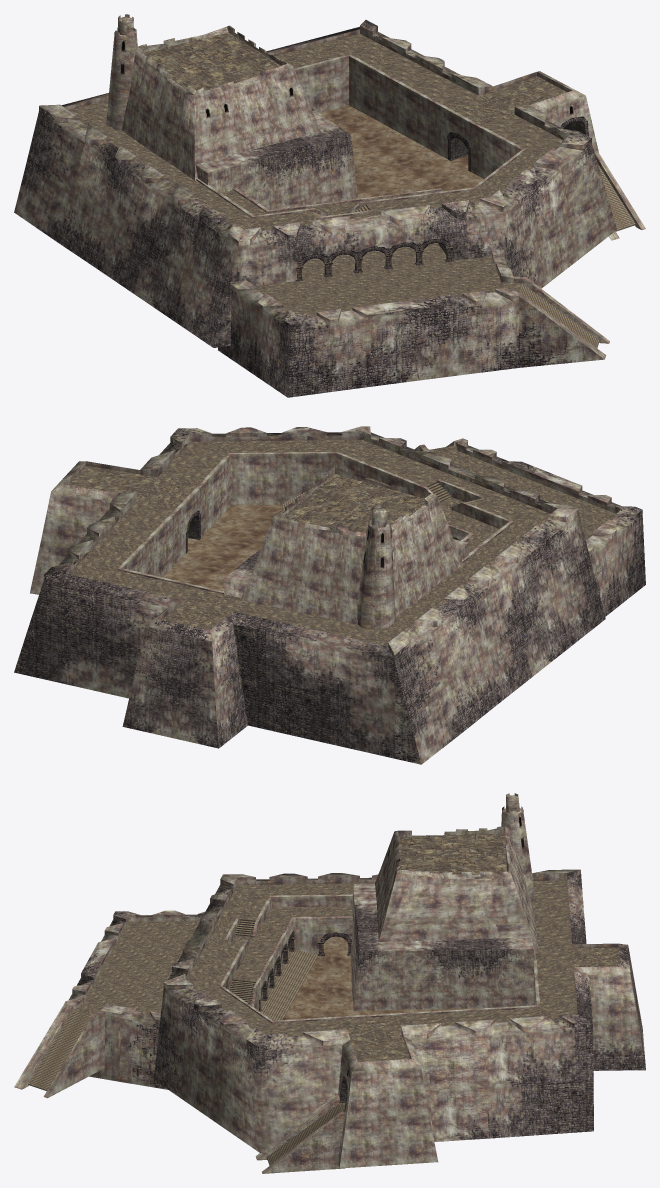
The model's file is pir_m_bld_frt_kingsheadTop_interior.fbx.
The picture shows the model from 3 angles, top to bottom: view 1: azimuth 30°, elevation 25°; view 2: azimuth 150°, elevation 25°; view 3: azimuth 270°, elevation 25°; orthographic projection. The views are drawn at different scales.
Parts seen in each view (by area): view 1: polySurface324, polySurface28.001, polySurface324.001, exterior_walls4, polySurface70.001, polySurface73, exterior_walls1.001, polySurface263.001, polySurface73.001, ground.001, polySurface323, polySurface323.001 (+12 smaller); view 2: polySurface324, polySurface324.001, polySurface73.001, polySurface70.001, polySurface73, exterior_walls4.001, exterior_walls4, polySurface28.001, polySurface378.001, ground.001, polySurface323, large_tower7.001 (+8 smaller); view 3: polySurface324, polySurface324.001, exterior_walls1.001, polySurface378.001, polySurface73.001, exterior_walls4, polySurface73, polySurface28.001, polySurface263.001, ground.001, polySurface323.001, exterior_walls4.001 (+15 smaller).
Boxes of the visible parts, x1=… form: polySurface324: x1=14, y1=26, x2=617, y2=347; polySurface28.001: x1=218, y1=249, x2=519, y2=397; polySurface324.001: x1=26, y1=20, x2=591, y2=347; exterior_walls4: x1=123, y1=27, x2=320, y2=180; polySurface70.001: x1=196, y1=56, x2=526, y2=219; polySurface73: x1=269, y1=33, x2=567, y2=229; exterior_walls1.001: x1=195, y1=107, x2=357, y2=210; polySurface263.001: x1=256, y1=243, x2=504, y2=316; polySurface73.001: x1=69, y1=34, x2=485, y2=230; ground.001: x1=143, y1=32, x2=280, y2=90; polySurface323: x1=325, y1=106, x2=481, y2=191; polySurface323.001: x1=319, y1=105, x2=483, y2=199; polySurface324: x1=45, y1=426, x2=605, y2=764; polySurface324.001: x1=14, y1=427, x2=591, y2=747; polySurface73.001: x1=69, y1=440, x2=550, y2=646; polySurface70.001: x1=121, y1=452, x2=513, y2=594; polySurface73: x1=68, y1=440, x2=549, y2=620; exterior_walls4.001: x1=240, y1=467, x2=463, y2=624; exterior_walls4: x1=271, y1=466, x2=457, y2=616; polySurface28.001: x1=422, y1=438, x2=645, y2=616; polySurface378.001: x1=30, y1=461, x2=140, y2=594; ground.001: x1=282, y1=474, x2=424, y2=532; polySurface323: x1=163, y1=504, x2=283, y2=586; large_tower7.001: x1=362, y1=505, x2=395, y2=629; polySurface324: x1=153, y1=869, x2=645, y2=1153; polySurface324.001: x1=167, y1=873, x2=645, y2=1141; exterior_walls1.001: x1=350, y1=883, x2=535, y2=1011; polySurface378.001: x1=337, y1=1036, x2=438, y2=1168; polySurface73.001: x1=187, y1=880, x2=619, y2=1061; exterior_walls4: x1=375, y1=828, x2=524, y2=941; polySurface73: x1=186, y1=886, x2=577, y2=1061; polySurface28.001: x1=64, y1=910, x2=202, y2=1089; polySurface263.001: x1=80, y1=920, x2=292, y2=1013; ground.001: x1=398, y1=833, x2=506, y2=874; polySurface323.001: x1=283, y1=936, x2=478, y2=1019; exterior_walls4.001: x1=383, y1=826, x2=539, y2=957.
Bounding box in the file's own units: 40881 × 18051 × 50571.
Materials: 7 (7 with a texture image).
